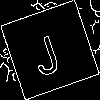J: (25, 25, 64, 78)
